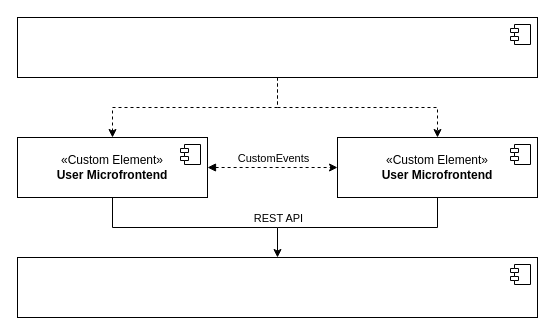
This 555x335 diagram has some shape labels left out. The shapes that lost their labels are listed below. From the top down, each one's centre as x and y in pixels, then its label:
At point 277,47: "«Angular» Application Shell".
At point 277,287: "«Node.js» Server API".
